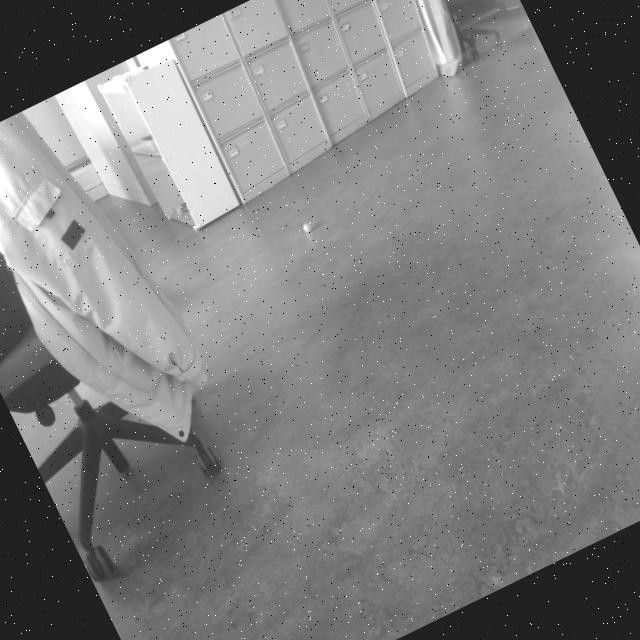ping-pong-ball: (299, 220, 312, 234)
